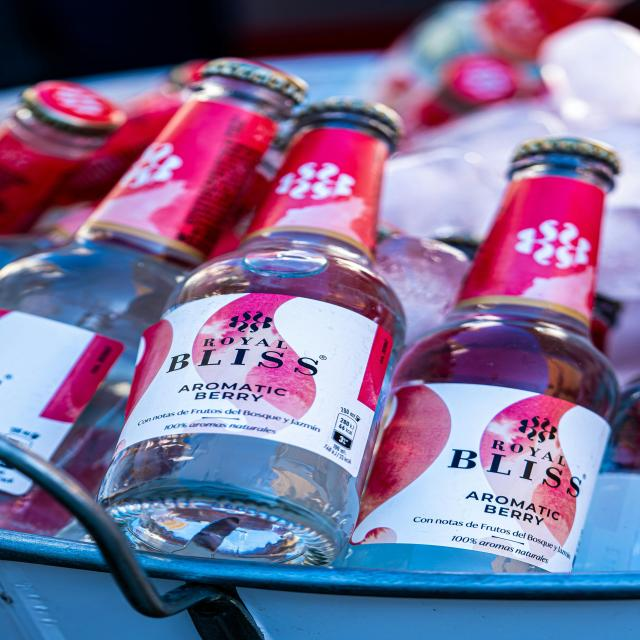electronic: (0, 52, 640, 576)
